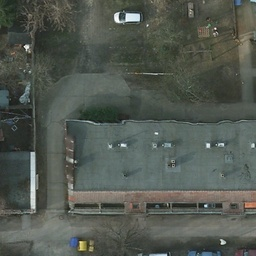car: (112, 11, 146, 26)
